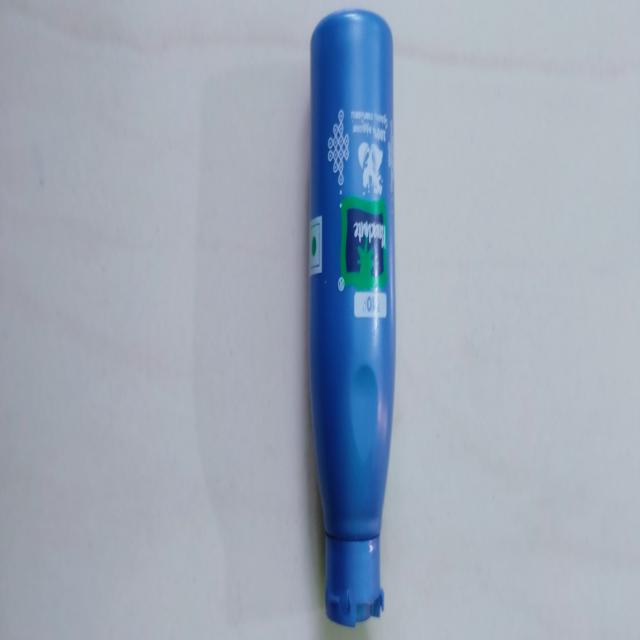oil: (299, 6, 409, 623)
